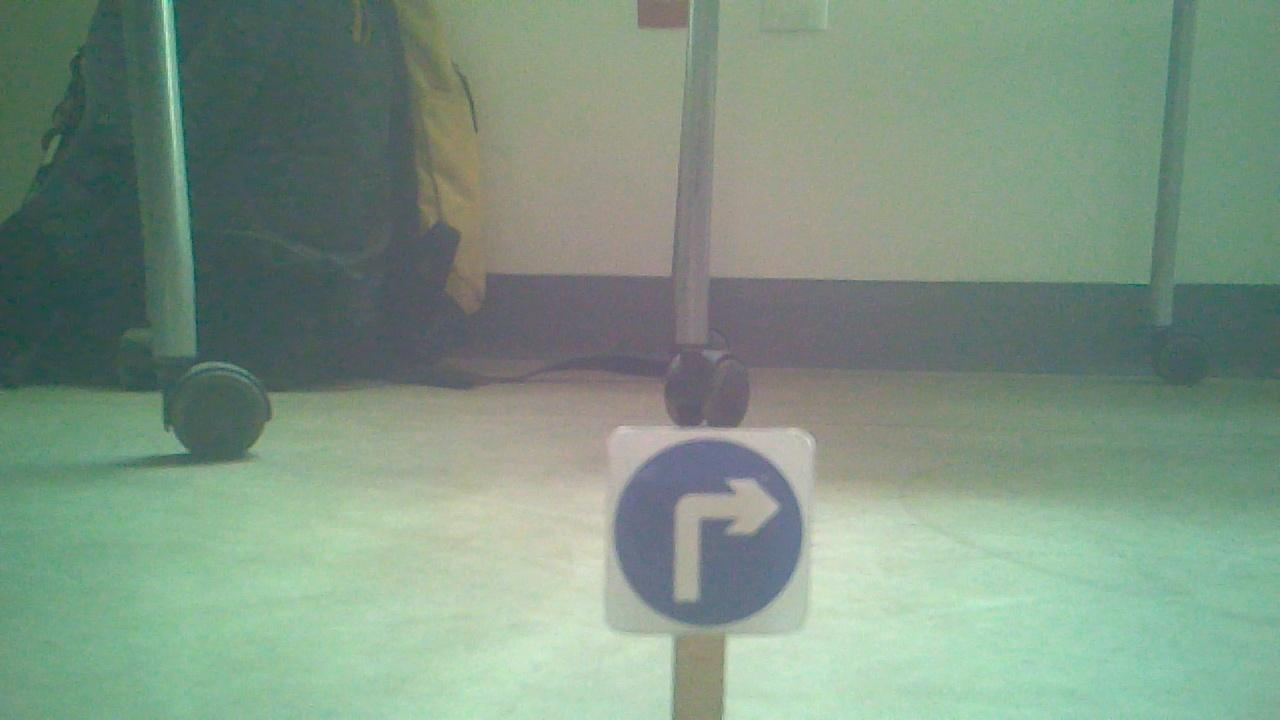turn: (610, 429, 808, 626)
